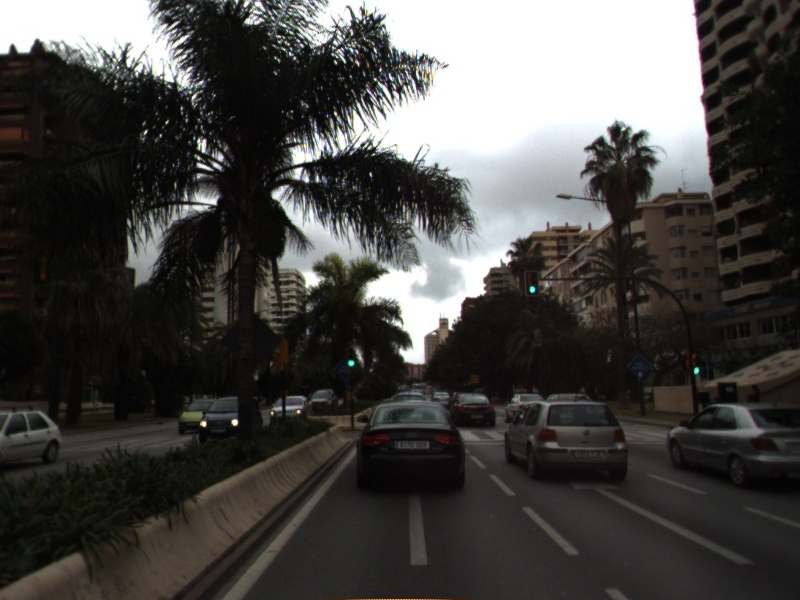STRAIGHT: (570, 477, 759, 569)
